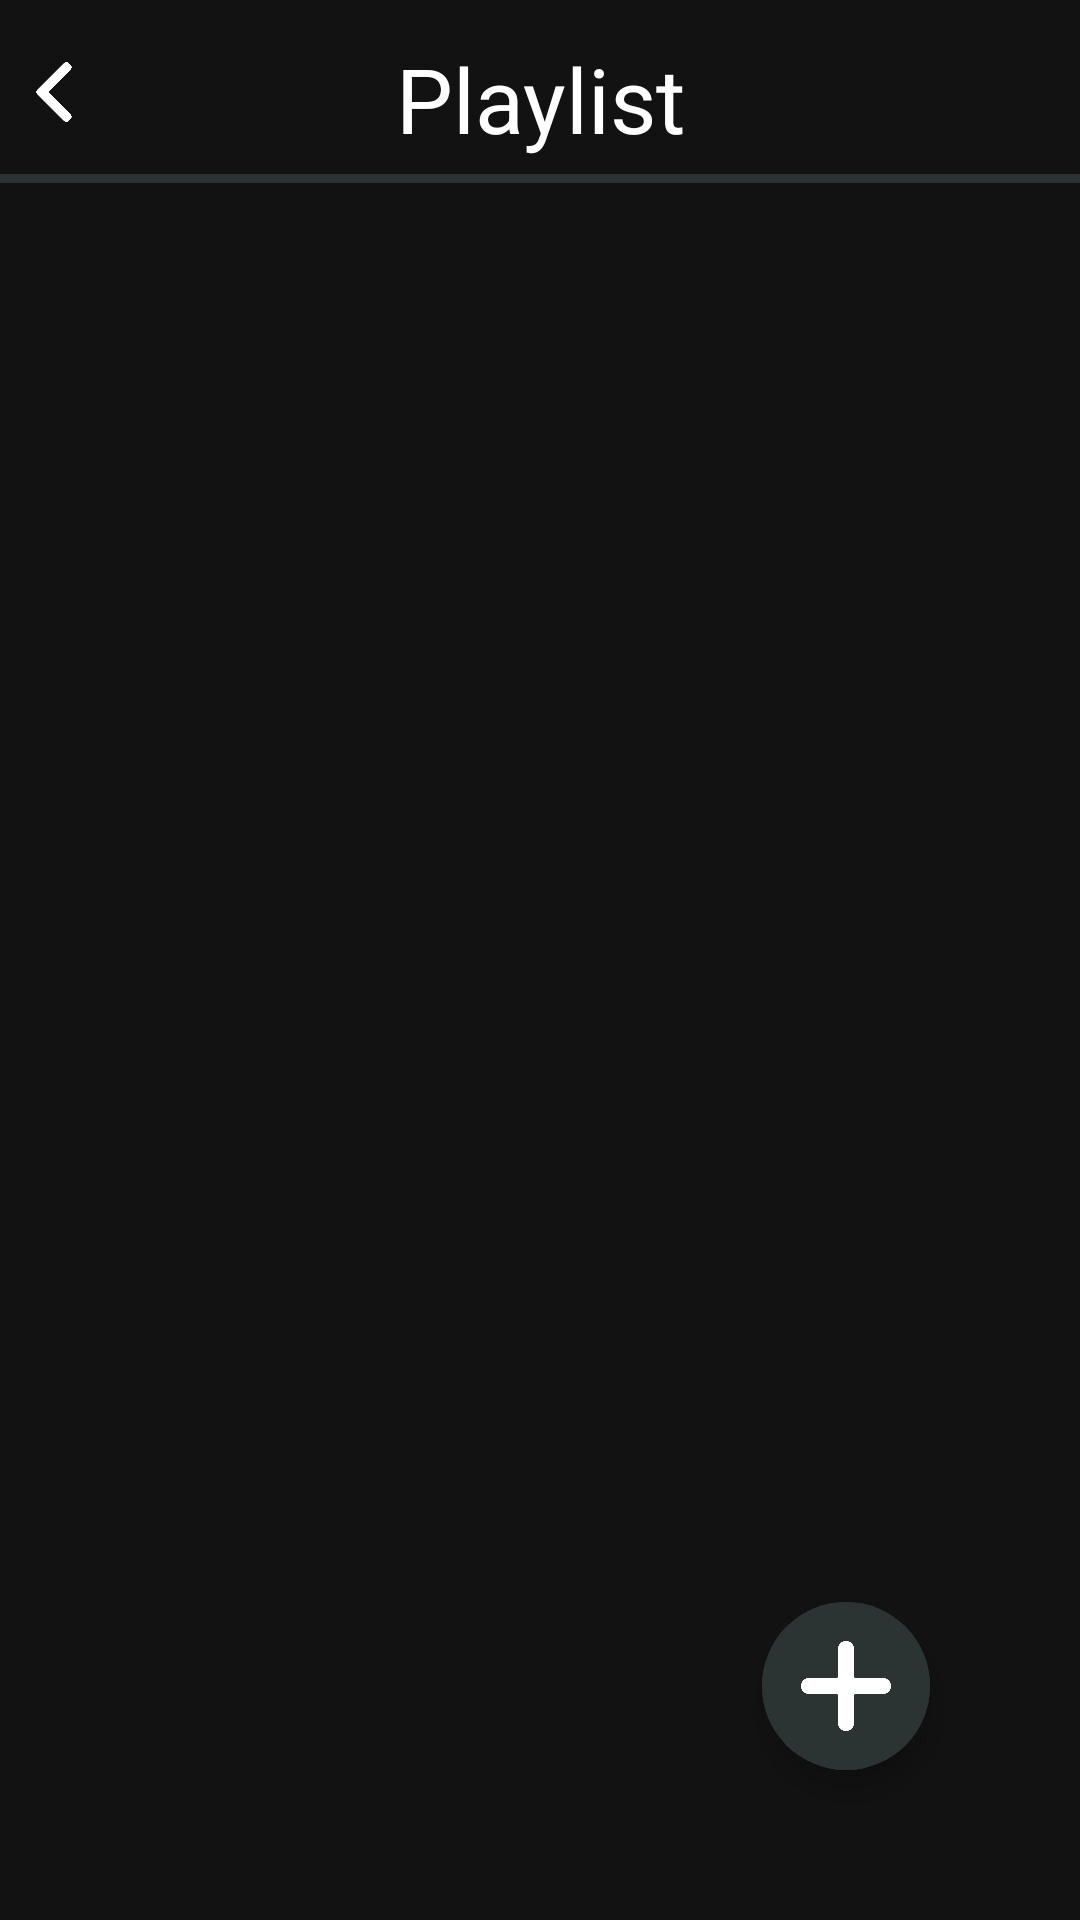

Icons on this 1080 x 1920 Android screen, each with its box as (x1, y1, x2, y2):
add: (762, 1602, 930, 1770)
backarrow: (36, 62, 72, 122)
